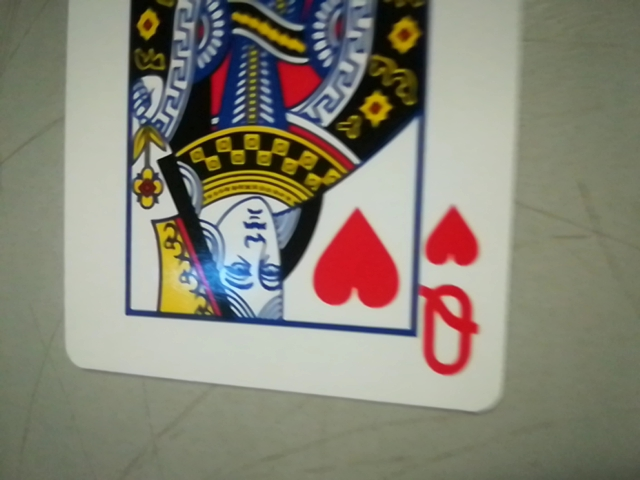hx q: (408, 200, 496, 390)
